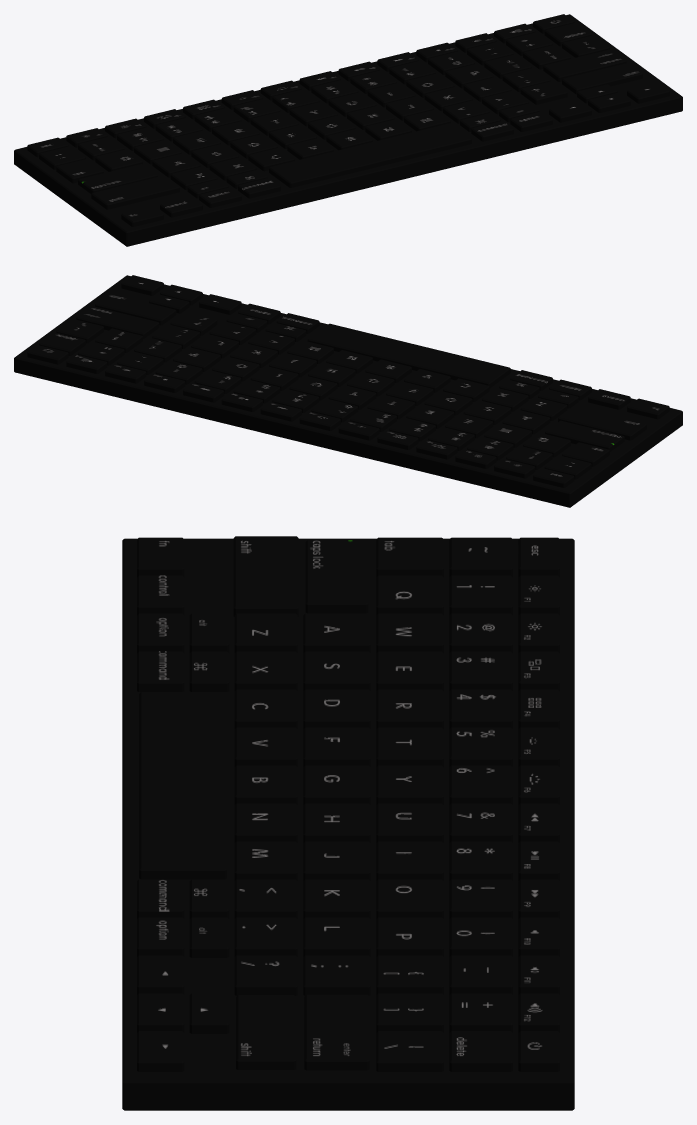
Rendered from teclado.glb.
3 renders of one model, top to bottom at view 1: azimuth 30°, elevation 25°; view 2: azimuth 150°, elevation 25°; view 3: azimuth 270°, elevation 25°, orthographic. The views are drawn at different scales.
Parts seen in each view (by area): view 1: tasti; view 2: tasti; view 3: tasti.
Part boxes in pixels (x1,y1,x2,y2): tasti: (14, 14, 682, 246); tasti: (14, 275, 682, 507); tasti: (122, 536, 574, 1110).
Bounding box in the file's own units: 6 × 0.2102 × 2.11.
1 material, 1 textured.
